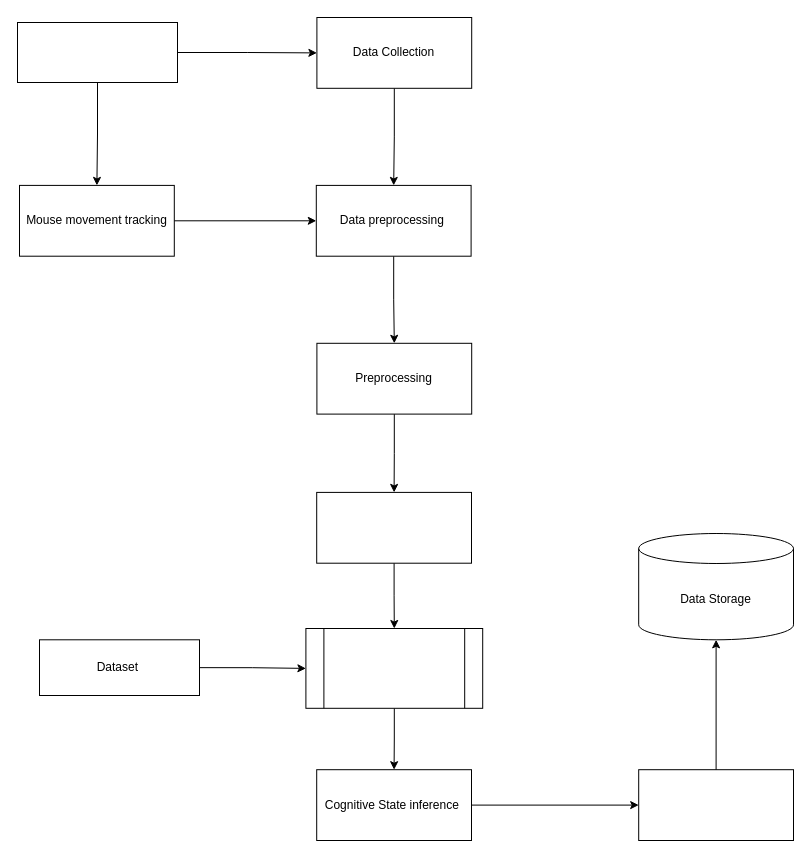
Some shapes in this 811 by 858 pixel diagram are drawn without their labels. The centre of each missing label's shape, as x and y in pixels:
Feature Extraction: [394,527]
Feedback Mechanism: [716,804]
Machine Learning Model: [394,668]
User Interface: [97,52]
